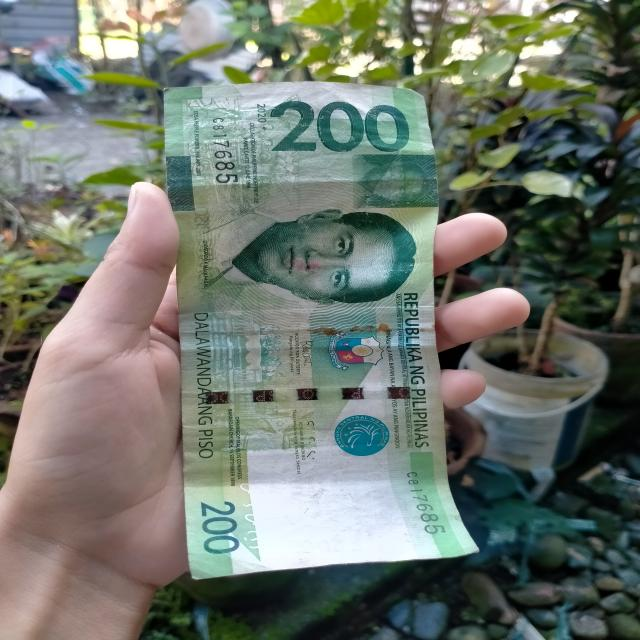concealed_value: (348, 157, 446, 207)
security_thread: (191, 387, 415, 405)
see_through_mark: (232, 477, 278, 568)
serial_number: (397, 463, 453, 541), (203, 109, 246, 196)
value: (264, 96, 406, 156)
